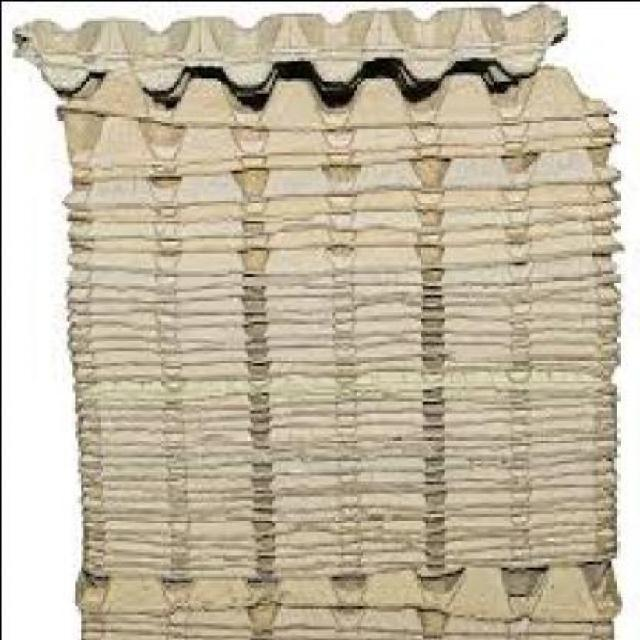box: (63, 63, 626, 639), (14, 0, 571, 92), (63, 62, 619, 128), (80, 558, 625, 614)
